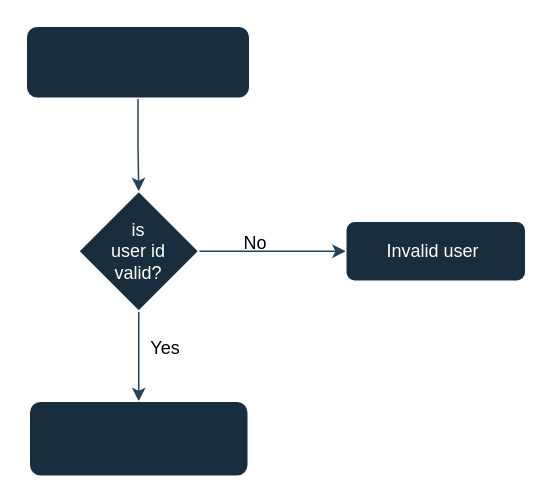
This 552x503 diagram has some shape labels left out. The box of each missing label's shape, as (x1, y1, x2, y2) in pixels:
Send Review data: (28, 400, 248, 476)
View Review: (25, 25, 250, 98)
